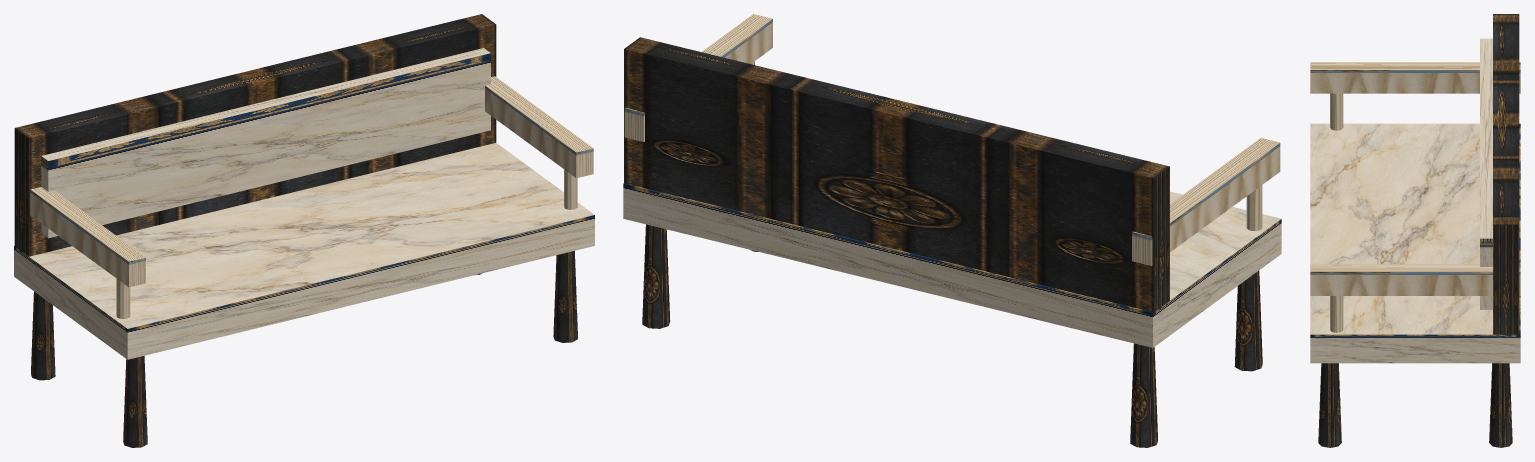
File: chaise.gltf
3 views of the same model, side by side, from view 1: azimuth 30°, elevation 25°; view 2: azimuth 150°, elevation 25°; view 3: azimuth 270°, elevation 25° (orthographic). The views are drawn at different scales.
Parts seen in each view (by area): view 1: kit:0:furniture:blue:, kit:0:furniture:mahogany:, kit:0:furniture:gold:; view 2: kit:0:furniture:mahogany:, kit:0:furniture:blue:, kit:0:furniture:gold:; view 3: kit:0:furniture:blue:, kit:0:furniture:gold:, kit:0:furniture:mahogany:.
Boxes of the visible parts, x1,y1,x2,y2 form: kit:0:furniture:blue:: (14, 48, 594, 359); kit:0:furniture:mahogany:: (14, 14, 577, 447); kit:0:furniture:gold:: (30, 76, 593, 318); kit:0:furniture:mahogany:: (624, 37, 1262, 447); kit:0:furniture:blue:: (623, 183, 1281, 347); kit:0:furniture:gold:: (624, 14, 1280, 265); kit:0:furniture:blue:: (1310, 38, 1520, 363); kit:0:furniture:gold:: (1310, 62, 1520, 332); kit:0:furniture:mahogany:: (1318, 14, 1519, 447).
Bounding box in the file's own units: 1.9 × 0.95 × 0.8.
Materials: 3 (3 with a texture image).
